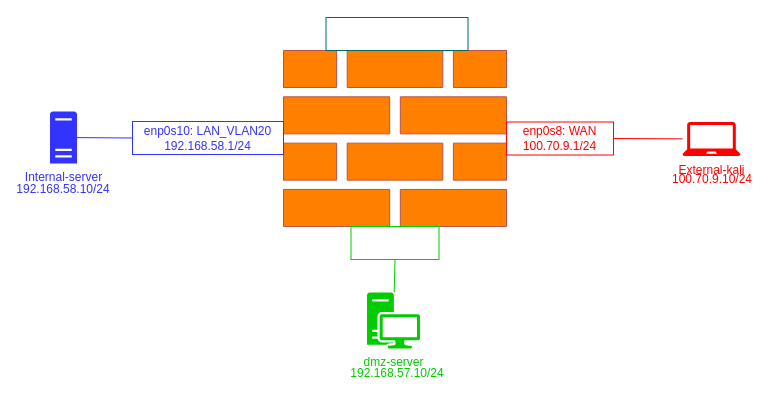
Image size: 770x406. Some labels were removed from this diagram. The centre of each missing label's shape, as x and y in pixels:
enp0s3: interfaz NAT de Vagrant: point 396,33
enp0s9: DMZ 192.168.57.1/24: point 394,243
